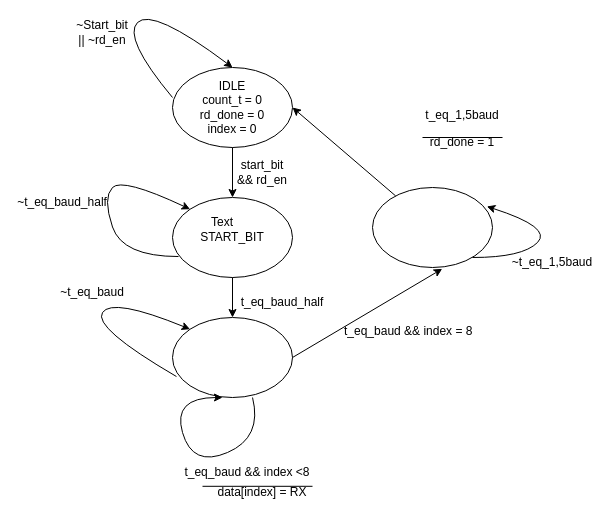
Image size: 609x524. Some labels were removed from this diagram. The shapes that lost their labels are listed below. From the top down, each one's centre as x and y in pixels, then its label:
At point 432,227: "STOP_BIT".
At point 232,357: "DATA_BIT".
